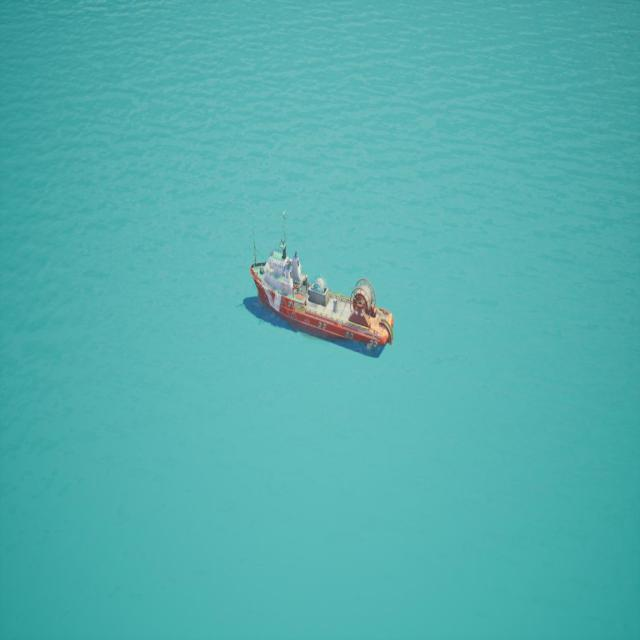tug boat: (243, 181, 393, 386)
